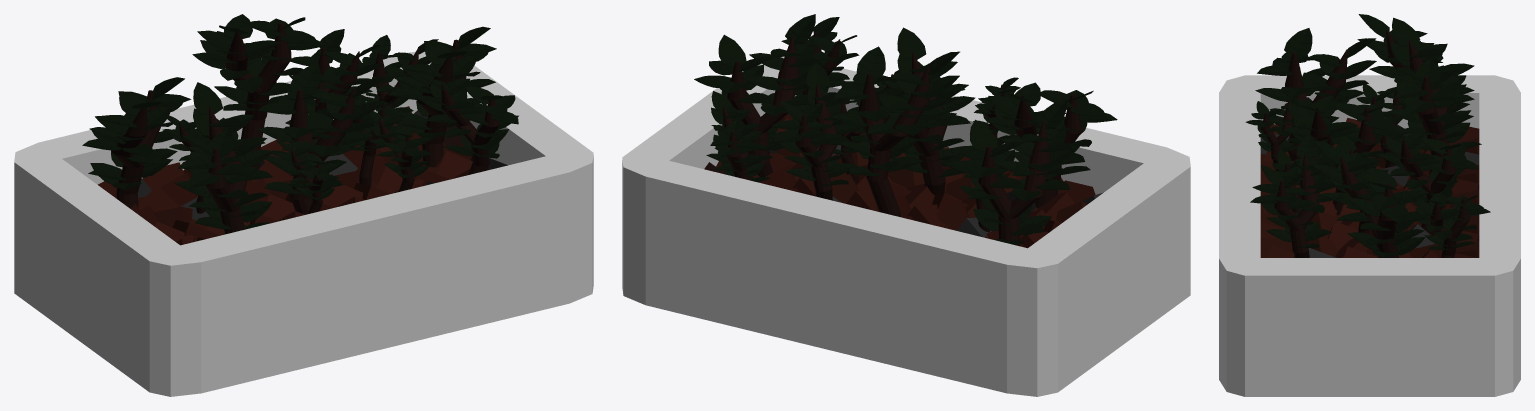
The model's file is Plant2.obj.
3 views of the same model, side by side, from view 1: azimuth 30°, elevation 25°; view 2: azimuth 150°, elevation 25°; view 3: azimuth 270°, elevation 25° (orthographic). The views are drawn at different scales.
Parts seen in each view (by area): view 1: PlantBox; view 2: PlantBox; view 3: PlantBox.
Boxes of the visible parts, box(x1,y1,x2,y2) form: PlantBox: box(14, 14, 593, 396); PlantBox: box(622, 14, 1190, 396); PlantBox: box(1219, 14, 1520, 396).
Size of the model in its own units: 3.42 by 1.98 by 2.18.
